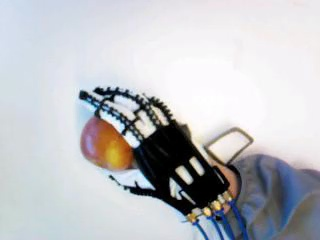apple: (80, 114, 134, 170)
hand: (78, 87, 230, 225)
